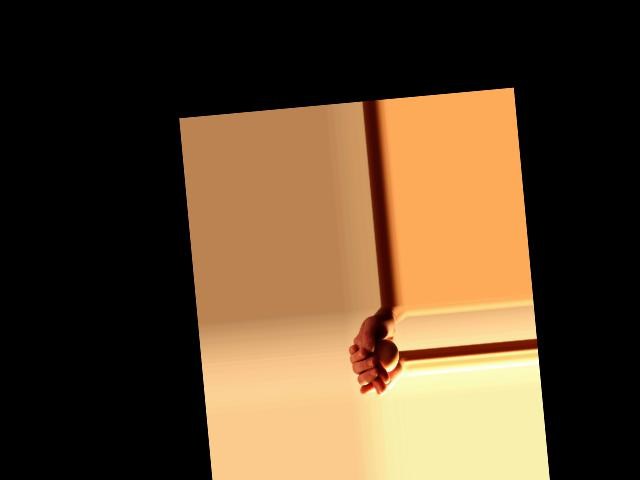egg: (374, 337, 400, 372)
